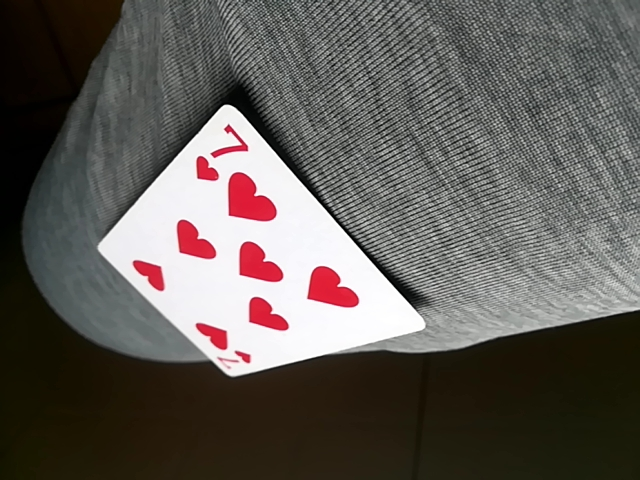hx 7: (97, 95, 429, 381)
